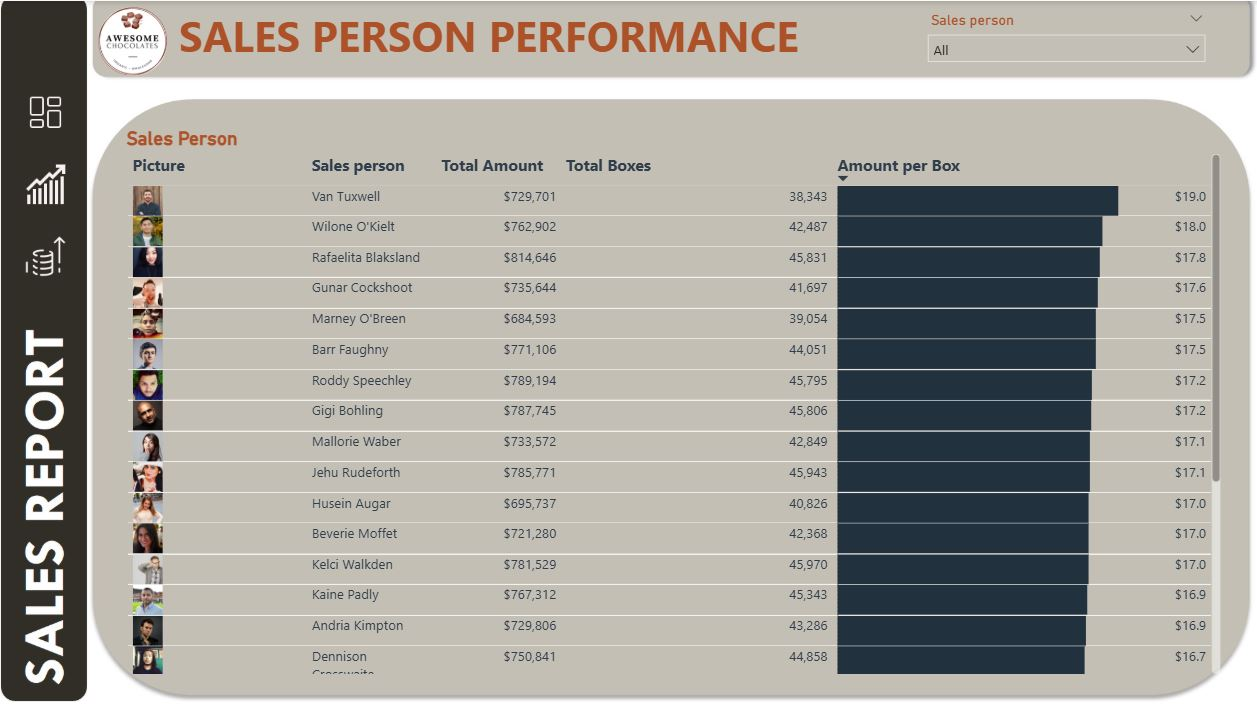

This screenshot's page, from the dashboard's own definition file:
{"tool":"powerbi","page":{"name":"Sales Person Performance","canvas":[1280,720],"ordinal":1},"visuals":[{"type":"tableEx","title":"Sales Person","fields":{"Values":["people.Picture","people.Sales person","sales.Total Amount","sales.Total Boxes","sales.Amount per Box"]},"box":[131.7,127.2,1114.5,557.2],"z":0},{"type":"image","box":[62.1,6.1,162,69.7],"z":1000},{"type":"slicer","fields":{"Values":["people.Sales person"]},"box":[935.8,6.1,299.8,69.7],"z":2000},{"type":"textbox","box":[184.7,0,685.9,75.7],"z":3000},{"type":"image","box":[19.7,92.4,70,40],"z":3001},{"type":"image","box":[19.7,165,70,40],"z":3002},{"type":"image","box":[19.7,237.7,70,40],"z":3003}]}

Visuals, with their boxes on the page's 1280x720 design canvas (x1, y1, x2, y2). These are canvas units, not pixel positions in the 1257x709 screenshot, which may show the page scaled, cropped or inside an application window:
"Sales Person" tableEx: region(132, 127, 1246, 684)
image: region(62, 6, 224, 76)
slicer - people.Sales person: region(936, 6, 1236, 76)
textbox: region(185, 0, 871, 76)
image: region(20, 92, 90, 132)
image: region(20, 165, 90, 205)
image: region(20, 238, 90, 278)
